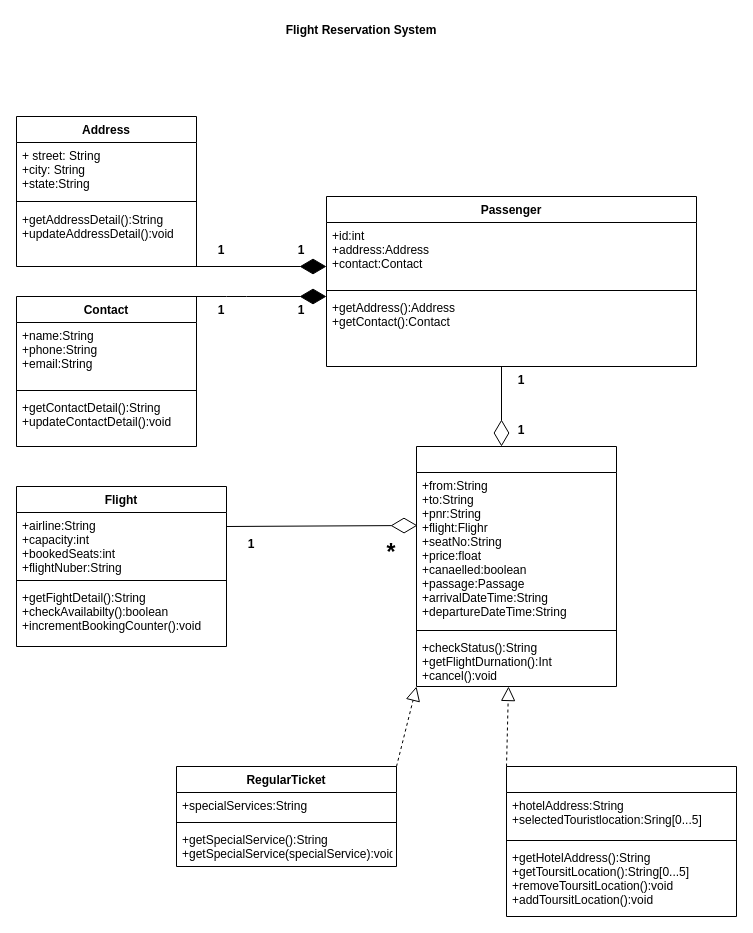
Image size: 753x933. Some labels were removed from this diagram. The shapes that lost their labels are listed below. From the top down, each one's box as (x1, y1, x2, y2) in pixels, then its label:
(416, 446, 616, 686): Ticket
(506, 766, 736, 916): TouristTicket
